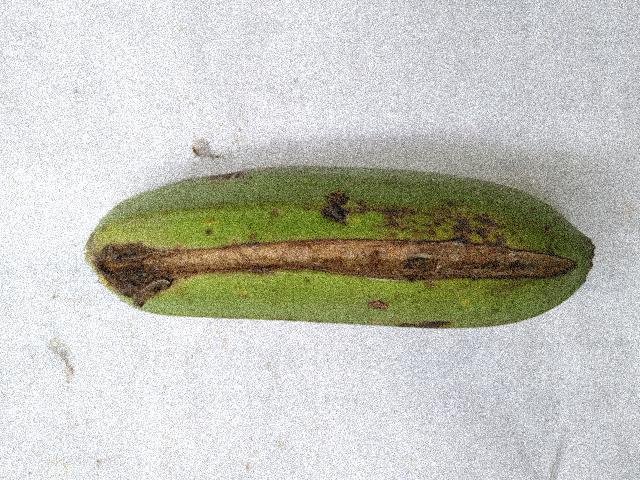rotten: (86, 219, 563, 329)
unripe: (75, 140, 605, 342)
